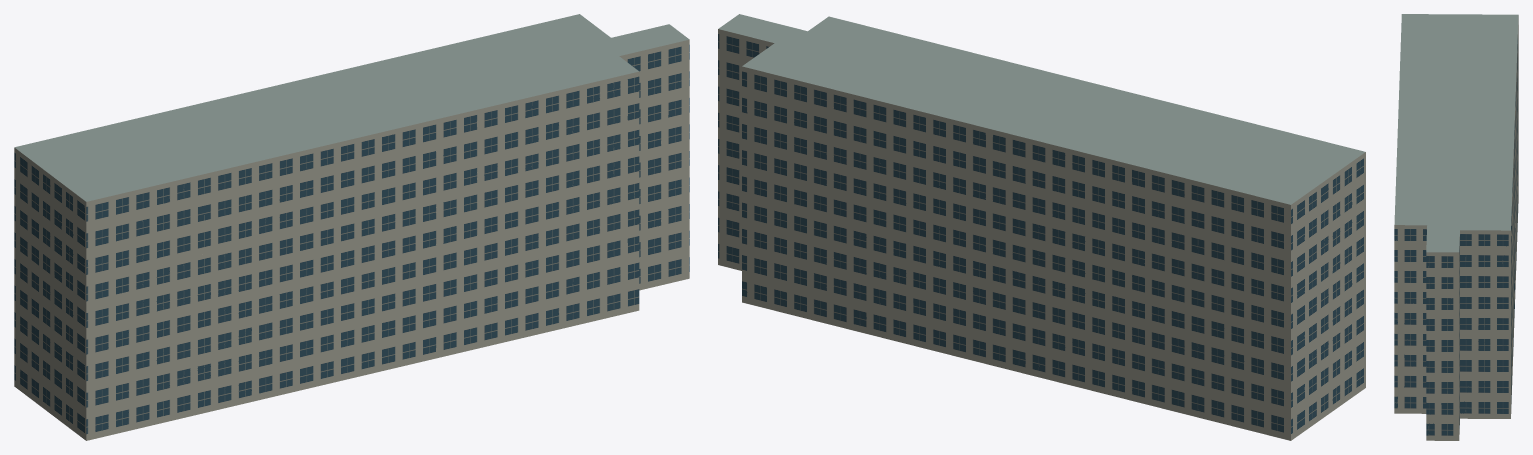
File: fragments.glb
The picture shows the model from 3 angles, left to right: view 1: azimuth 30°, elevation 25°; view 2: azimuth 150°, elevation 25°; view 3: azimuth 270°, elevation 25°; orthographic projection. The views are drawn at different scales.
Visible parts, largest first — view 1: SM_IT1_Fragment_029, SM_IT1_Fragment_024, SM_IT1_Fragment_005, SM_IT1_Fragment_000, SM_IT1_Fragment_022, SM_IT1_Fragment_010, SM_IT1_Fragment_015, SM_IT1_Fragment_009, SM_IT1_Fragment_016, SM_IT1_Fragment_018, SM_IT1_Fragment_002, SM_IT1_Fragment_001 (+16 smaller); view 2: SM_IT1_Fragment_006, SM_IT1_Fragment_005, SM_IT1_Fragment_003, SM_IT1_Fragment_002, SM_IT1_Fragment_009, SM_IT1_Fragment_015, SM_IT1_Fragment_019, SM_IT1_Fragment_011, SM_IT1_Fragment_023, SM_IT1_Fragment_021, SM_IT1_Fragment_000, SM_IT1_Fragment_025 (+15 smaller); view 3: SM_IT1_Fragment_000, SM_IT1_Fragment_001, SM_IT1_Fragment_005, SM_IT1_Fragment_009, SM_IT1_Fragment_021, SM_IT1_Fragment_015, SM_IT1_Fragment_029, SM_IT1_Fragment_006, SM_IT1_Fragment_024, SM_IT1_Fragment_019, SM_IT1_Fragment_025, SM_IT1_Fragment_018 (+6 smaller).
Boxes of the visible parts, left/top/right/bottom form: SM_IT1_Fragment_029: left=45, top=149, right=207, bottom=264; SM_IT1_Fragment_024: left=356, top=78, right=486, bottom=226; SM_IT1_Fragment_005: left=456, top=16, right=624, bottom=159; SM_IT1_Fragment_000: left=571, top=14, right=689, bottom=201; SM_IT1_Fragment_022: left=47, top=338, right=178, bottom=440; SM_IT1_Fragment_010: left=266, top=273, right=371, bottom=397; SM_IT1_Fragment_015: left=388, top=43, right=543, bottom=183; SM_IT1_Fragment_009: left=177, top=91, right=329, bottom=219; SM_IT1_Fragment_016: left=454, top=237, right=549, bottom=354; SM_IT1_Fragment_018: left=158, top=140, right=265, bottom=294; SM_IT1_Fragment_002: left=14, top=243, right=175, bottom=363; SM_IT1_Fragment_001: left=607, top=171, right=689, bottom=317; SM_IT1_Fragment_006: left=1195, top=154, right=1324, bottom=298; SM_IT1_Fragment_005: left=750, top=20, right=923, bottom=163; SM_IT1_Fragment_003: left=908, top=241, right=1027, bottom=374; SM_IT1_Fragment_002: left=1188, top=259, right=1365, bottom=375; SM_IT1_Fragment_009: left=1052, top=93, right=1196, bottom=243; SM_IT1_Fragment_015: left=859, top=40, right=987, bottom=207; SM_IT1_Fragment_019: left=1128, top=131, right=1229, bottom=285; SM_IT1_Fragment_011: left=1013, top=274, right=1126, bottom=398; SM_IT1_Fragment_023: left=1185, top=344, right=1326, bottom=440; SM_IT1_Fragment_021: left=992, top=77, right=1133, bottom=214; SM_IT1_Fragment_000: left=718, top=14, right=842, bottom=218; SM_IT1_Fragment_025: left=920, top=92, right=1027, bottom=202; SM_IT1_Fragment_000: left=1394, top=219, right=1511, bottom=361; SM_IT1_Fragment_001: left=1394, top=322, right=1511, bottom=440; SM_IT1_Fragment_005: left=1394, top=183, right=1512, bottom=267; SM_IT1_Fragment_009: left=1398, top=77, right=1516, bottom=168; SM_IT1_Fragment_021: left=1397, top=105, right=1515, bottom=178; SM_IT1_Fragment_015: left=1395, top=157, right=1513, bottom=250; SM_IT1_Fragment_029: left=1400, top=14, right=1465, bottom=58; SM_IT1_Fragment_006: left=1460, top=14, right=1518, bottom=125; SM_IT1_Fragment_024: left=1396, top=131, right=1469, bottom=162; SM_IT1_Fragment_019: left=1445, top=49, right=1517, bottom=160; SM_IT1_Fragment_025: left=1459, top=131, right=1514, bottom=213; SM_IT1_Fragment_018: left=1399, top=54, right=1454, bottom=80.
Size of the model in its own units: 2.8 by 1.03 by 0.6155.
3 materials, 1 textured.
